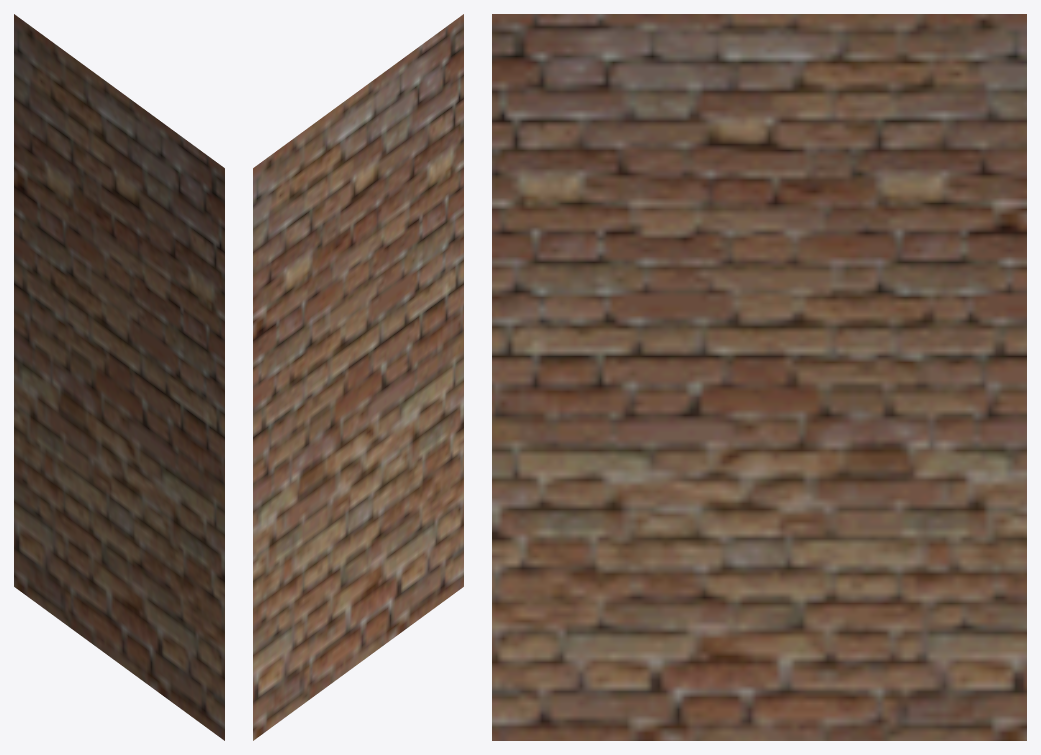
Rendered from brick_wall_thin.fbx.
3 views of the same model, side by side, from view 1: azimuth 30°, elevation 25°; view 2: azimuth 150°, elevation 25°; view 3: azimuth 270°, elevation 25° (orthographic). The views are drawn at different scales.
Parts seen in each view (by area): view 1: brick_wall_thin; view 2: brick_wall_thin; view 3: brick_wall_thin.
Part boxes in pixels (left/top/right/bottom): brick_wall_thin: left=14, top=14, right=224, bottom=740; brick_wall_thin: left=253, top=14, right=463, bottom=740; brick_wall_thin: left=492, top=14, right=1026, bottom=740.
Size of the model in its own units: 2.26e-05 by 300 by 200.
Materials: 1 (1 with a texture image).
